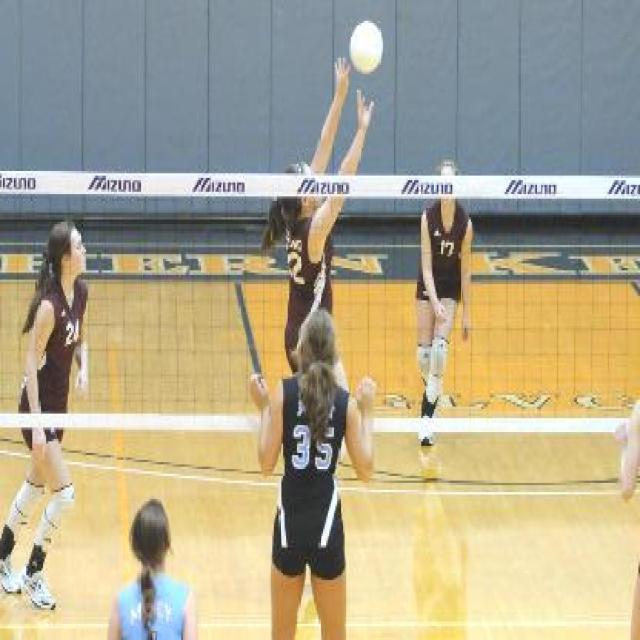volleyball: (348, 21, 384, 72)
